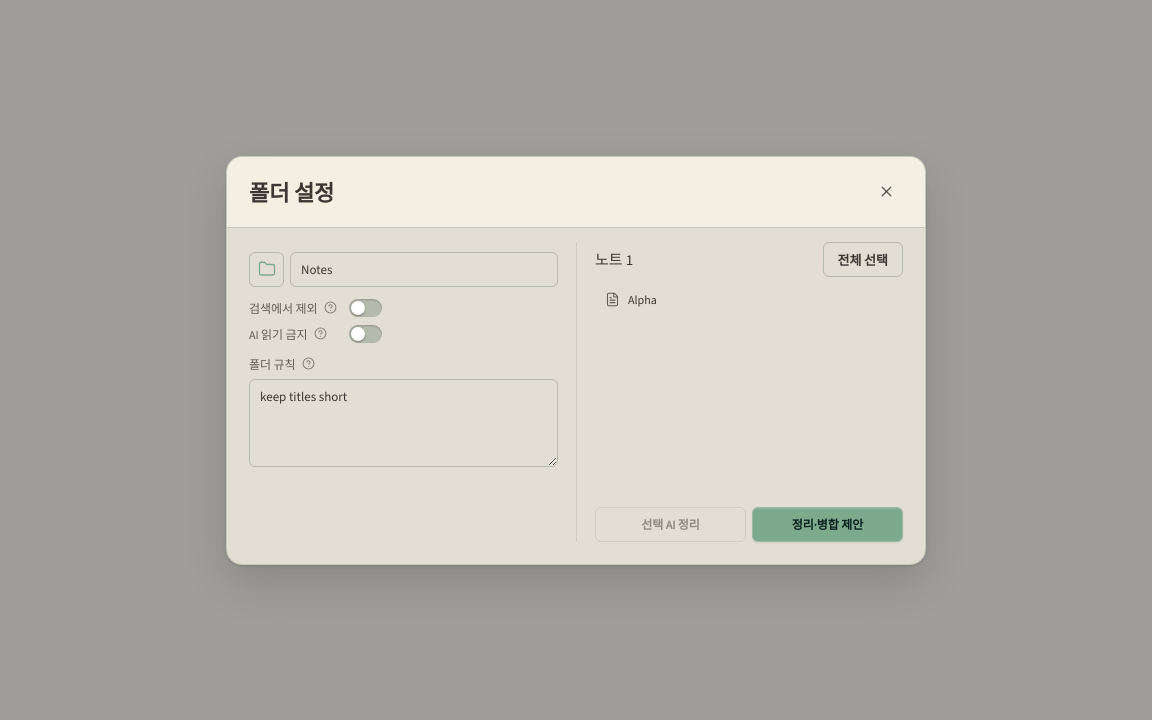
Scenario: FolderOrganizeModal › edits name, color, and inherited rules and lists notes for batch work
Check: the heading "폴더 설정" is shown, box 249,179 -> 334,208
Check: the text "Alpha" is shown, box 628,292 -> 657,308
Replace the text in the text box with placeholder "이 폴더 노트를 AI로 정리할 때 상속됩니다. 전역 메타데이터 지침보다 우선합니다." with "prefer the year in the title" at [404, 422], box 249,378 -> 558,466
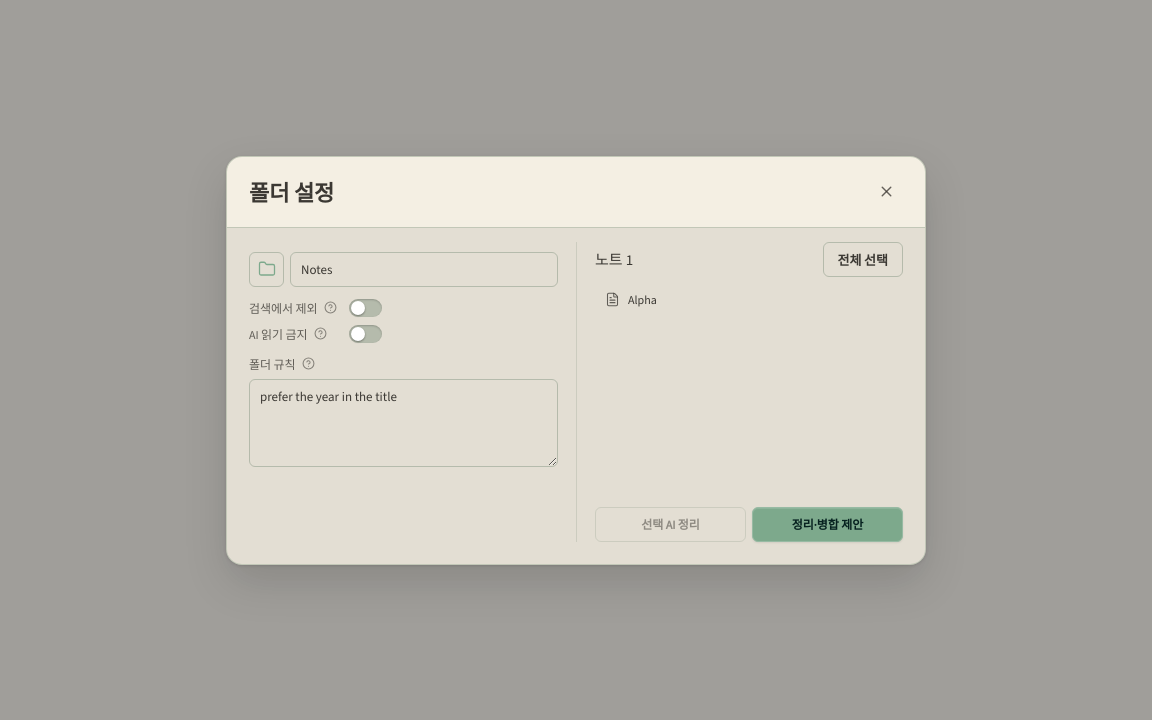
Click the button "Alpha" at [612, 300], box 595,286 -> 903,314
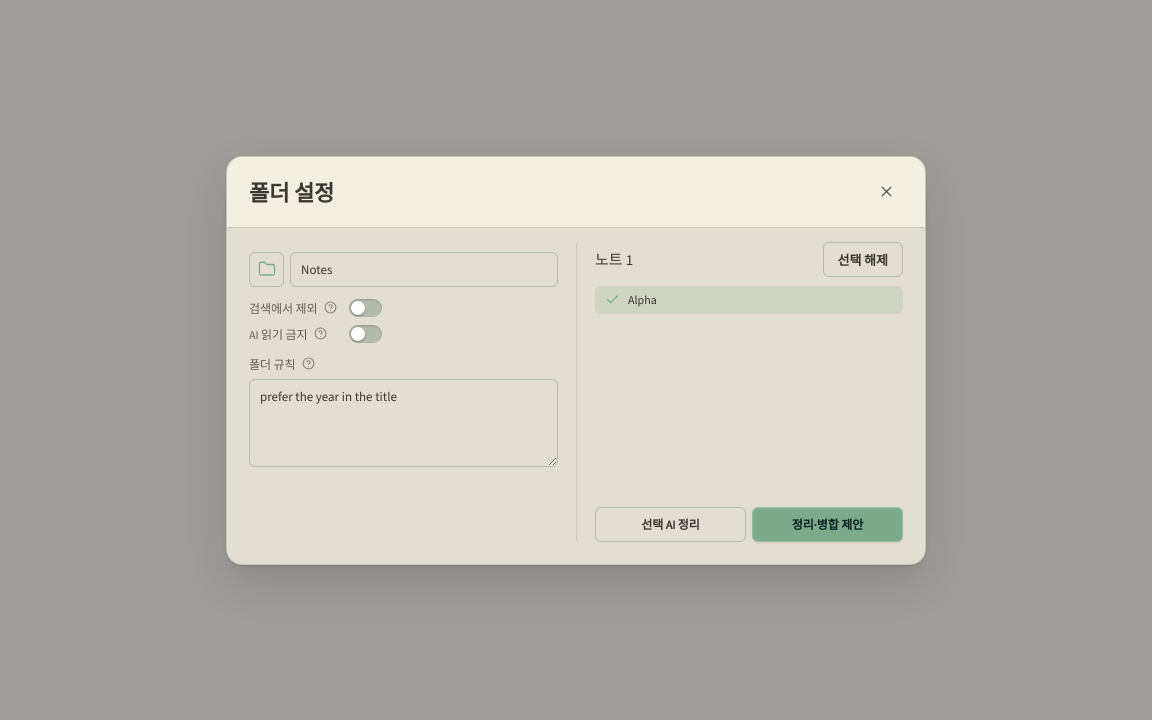
Check: the button "선택 AI 정리" is enabled, box 595,506 -> 746,542
